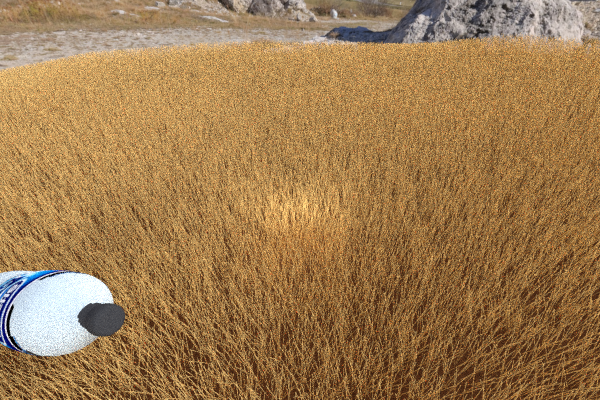Plastic Bottle: (0, 270, 125, 356), (0, 117, 72, 157)
